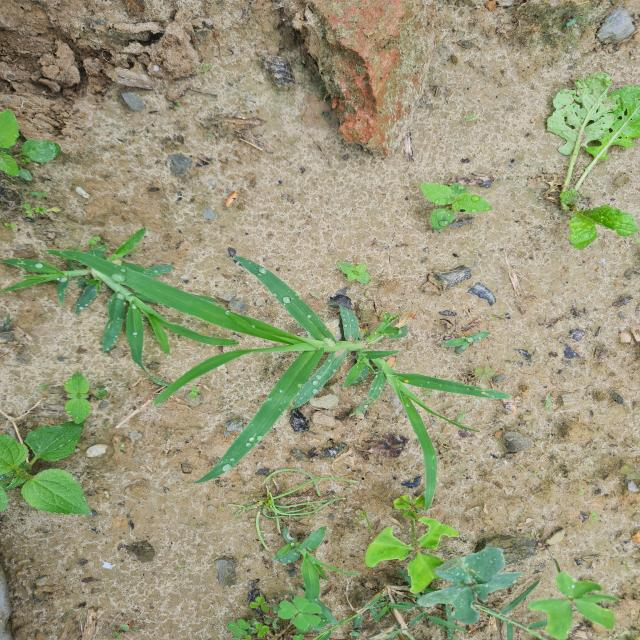weed: (27, 219, 508, 494), (292, 524, 624, 640), (480, 70, 640, 263), (0, 400, 127, 543), (0, 111, 70, 210)
